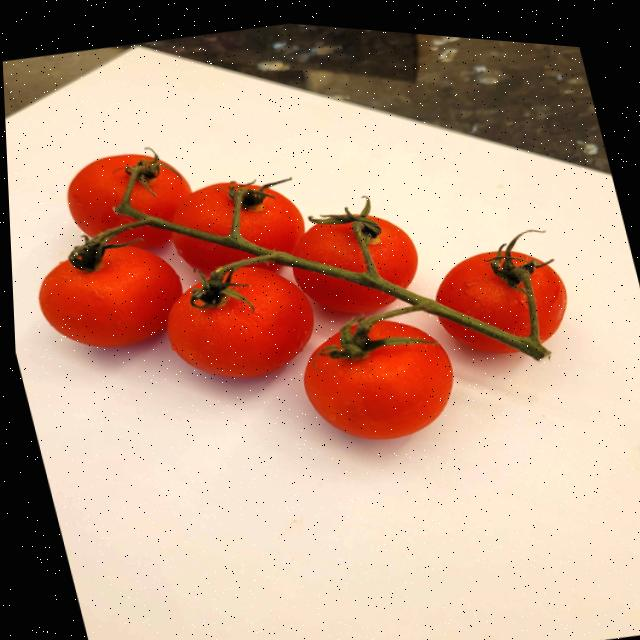ripe2: (304, 320, 453, 439), (167, 266, 313, 378), (39, 243, 182, 347), (436, 238, 566, 341), (67, 154, 152, 237), (293, 268, 395, 315), (239, 188, 304, 251), (286, 222, 366, 272), (172, 182, 244, 235), (368, 217, 417, 288), (130, 166, 191, 220), (172, 232, 246, 274), (440, 319, 517, 353), (109, 226, 170, 248)
